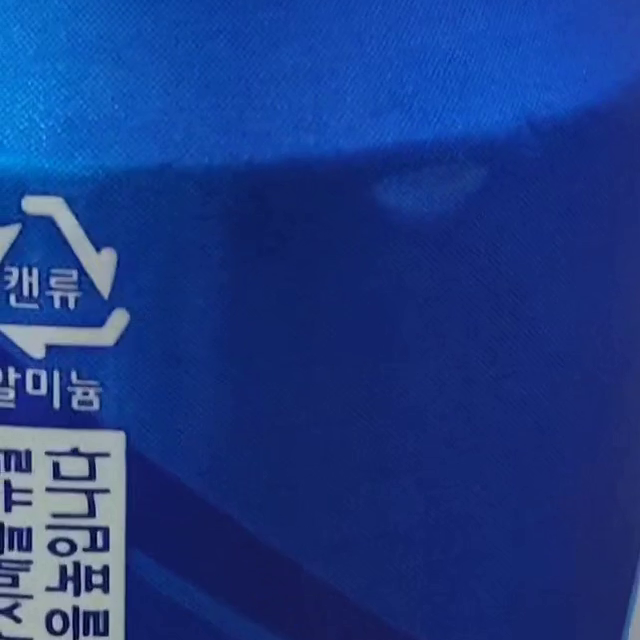Can: (2, 195, 129, 358)
